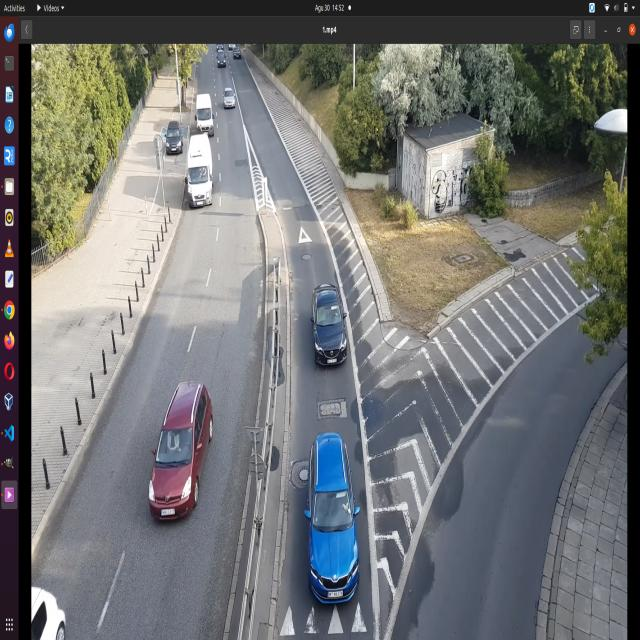person_without_seatbelt: (166, 432, 180, 454)
